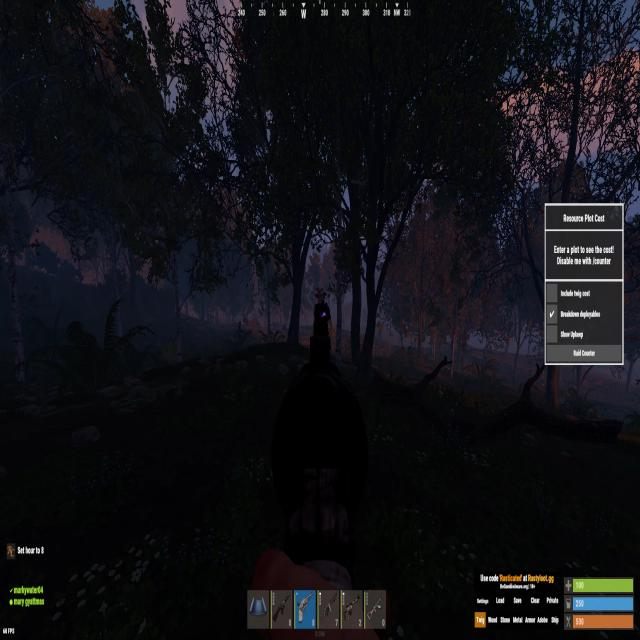Player: (314, 288, 332, 338)
